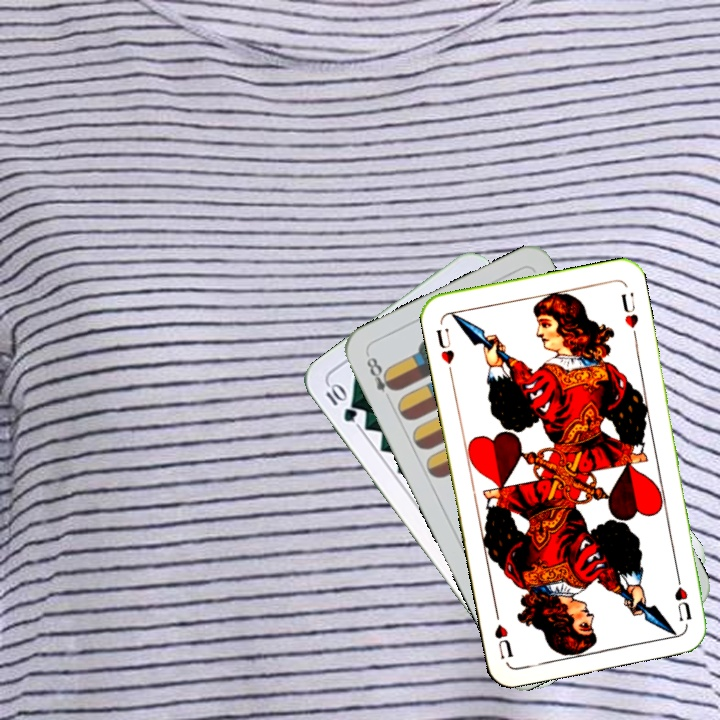E8: (362, 350, 399, 406)
G10: (321, 379, 360, 425)
HU: (670, 568, 695, 624), (432, 324, 457, 367)
